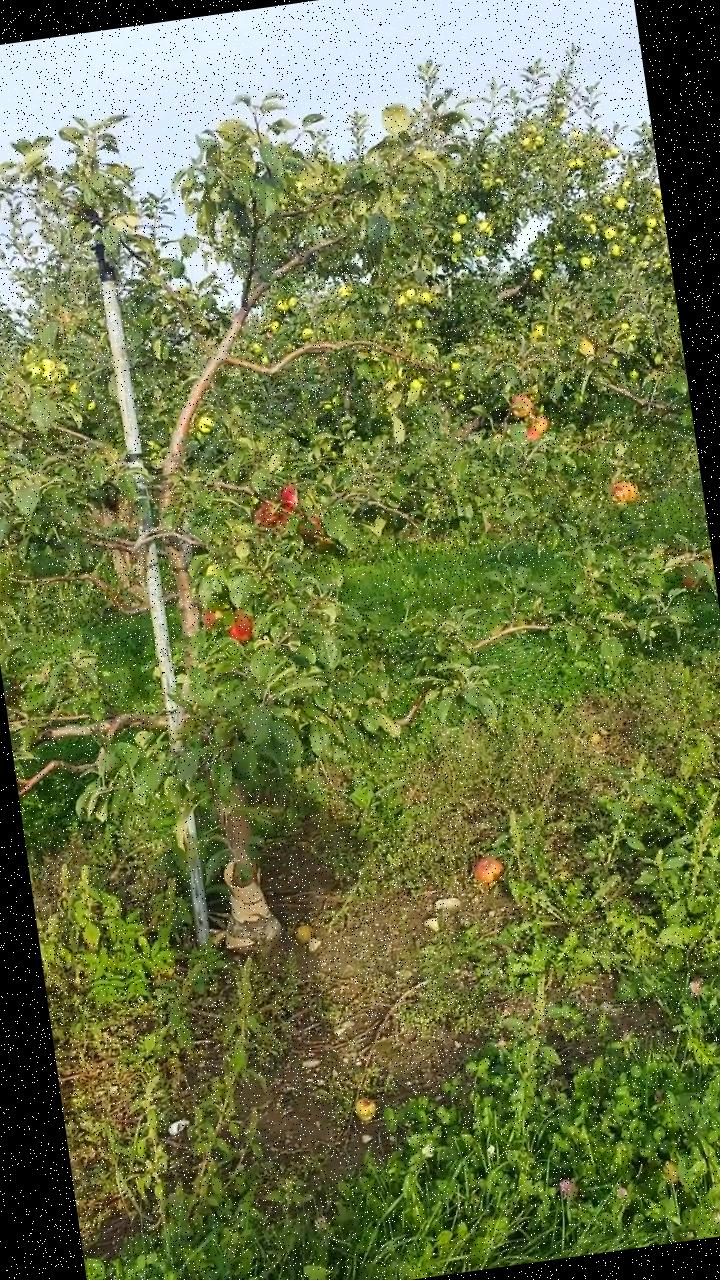Apple: (222, 606, 255, 644), (273, 484, 301, 520), (251, 498, 284, 526), (508, 392, 536, 418), (525, 408, 552, 434), (612, 479, 640, 502), (298, 512, 324, 535), (203, 608, 221, 630), (681, 568, 696, 592), (525, 424, 541, 441)
